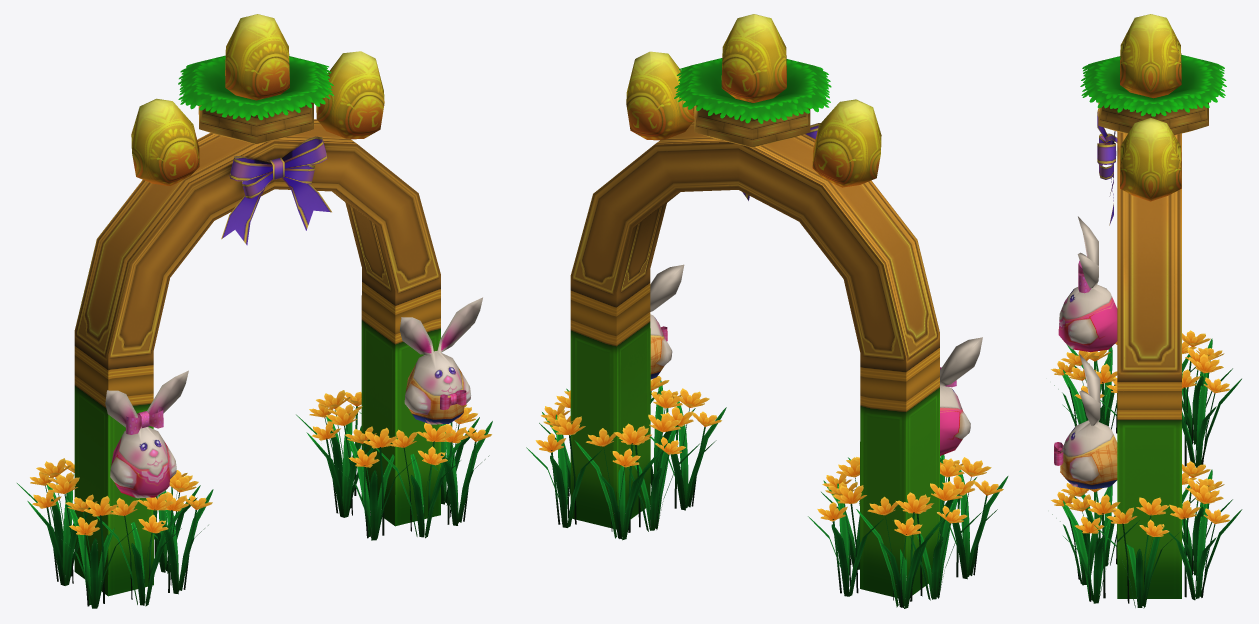
The model's file is Easter_gate_Deco.FBX.
The picture shows the model from 3 angles, left to right: view 1: azimuth 30°, elevation 25°; view 2: azimuth 150°, elevation 25°; view 3: azimuth 270°, elevation 25°; orthographic projection. The views are drawn at different scales.
Parts seen in each view (by area): view 1: Easter_gate_Deco, Rabbit1, RAbbit2; view 2: Easter_gate_Deco, Rabbit1, RAbbit2; view 3: Easter_gate_Deco, RAbbit2, Rabbit1.
Part boxes in pixels (bbox=[...]): Easter_gate_Deco: bbox=[17, 14, 492, 608]; Rabbit1: bbox=[105, 370, 188, 498]; RAbbit2: bbox=[399, 297, 482, 424]; Easter_gate_Deco: bbox=[526, 14, 1008, 608]; Rabbit1: bbox=[940, 337, 982, 455]; RAbbit2: bbox=[650, 264, 684, 379]; Easter_gate_Deco: bbox=[1051, 14, 1242, 608]; RAbbit2: bbox=[1054, 354, 1117, 489]; Rabbit1: bbox=[1058, 216, 1117, 351].
Size of the model in its own units: 2.71 by 3.09 by 1.13.
